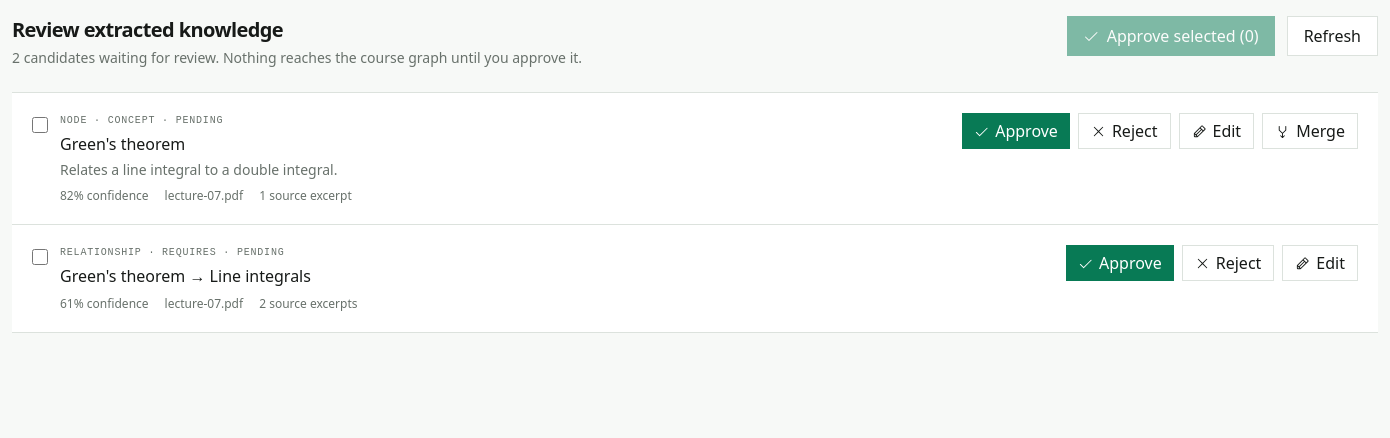
Scenario: GraphReview › shows a retryable error when a review action fails
The image size is (1390, 438).
Click the button "Approve" in the row of "CONCEPT": (1016, 131) [962,113,1070,149]
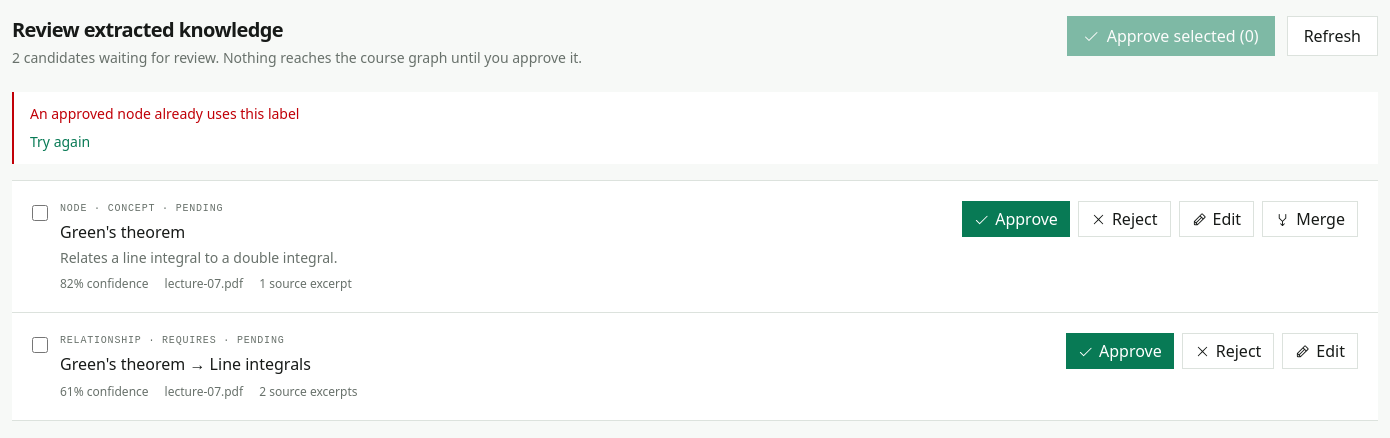
Expected: the button "Green's theorem" is shown, [60,220,185,244]
Expected: the message shows "An approved node already uses this label", [30,104,300,123]
Click the button "Try again": (60, 142) [30,132,90,152]
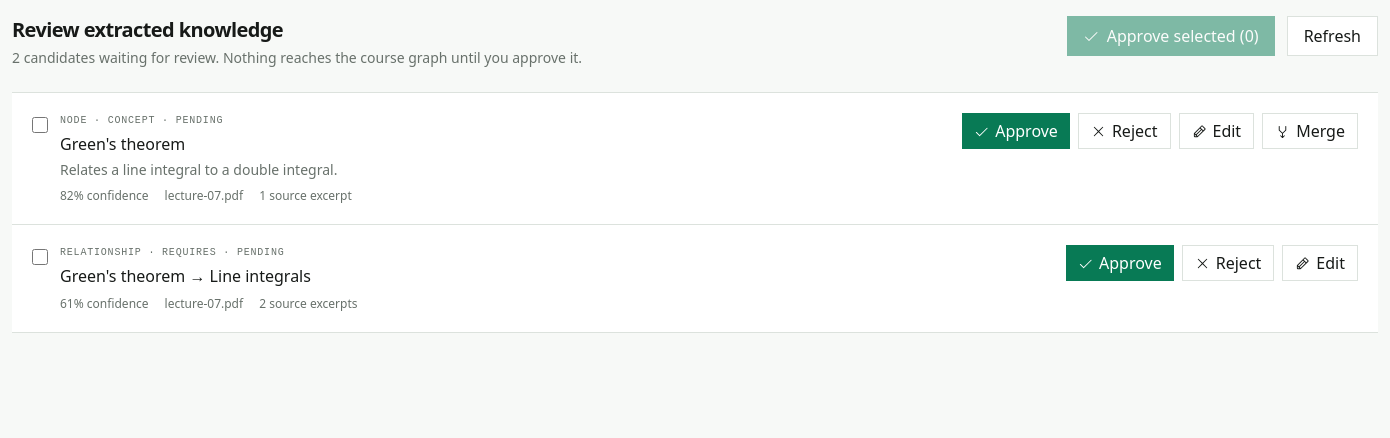
Expected: the message "An approved node already uses this label Try again" is gone
